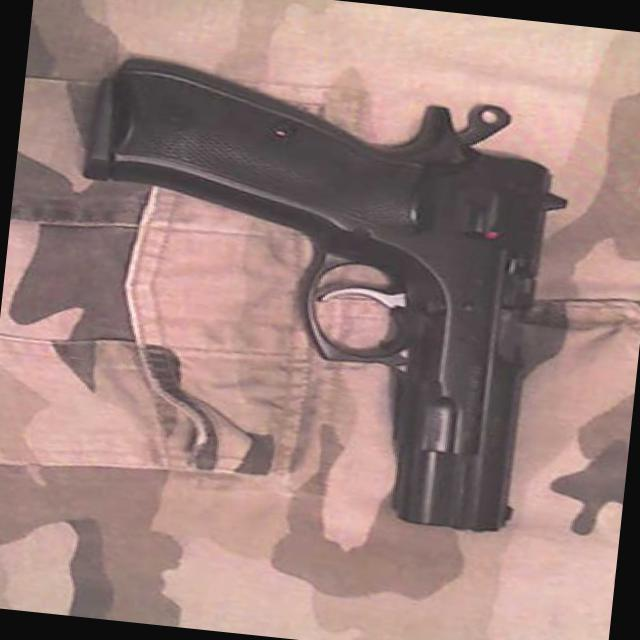handgun: (59, 48, 578, 539)
